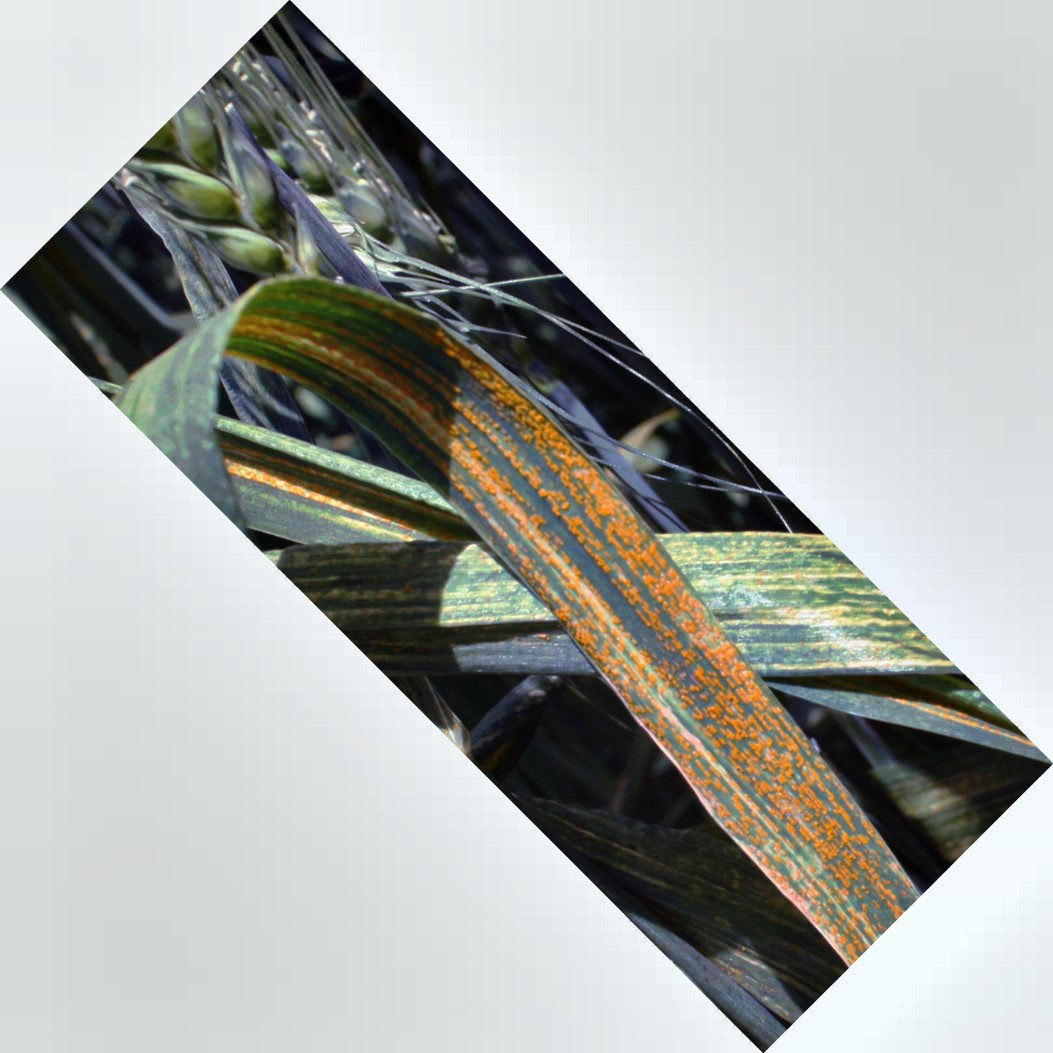Leaf Rust: (392, 379, 877, 956)
